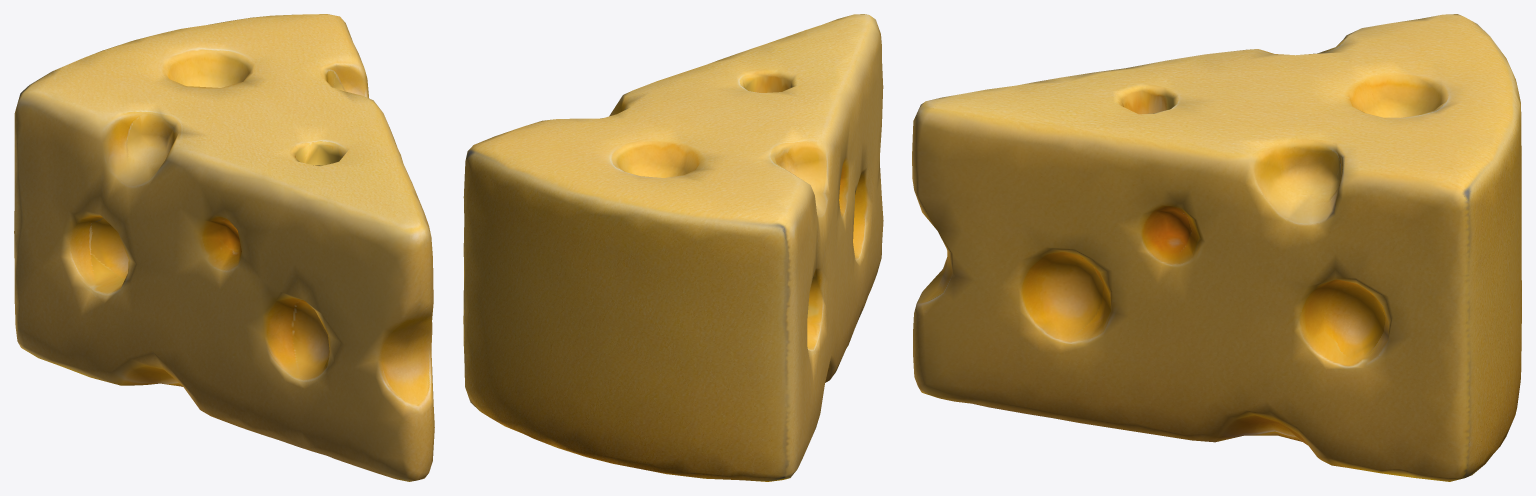
File: tom cheese.fbx
The picture shows the model from 3 angles, left to right: view 1: azimuth 30°, elevation 25°; view 2: azimuth 150°, elevation 25°; view 3: azimuth 270°, elevation 25°; orthographic projection. The views are drawn at different scales.
Parts seen in each view (by area): view 1: texture_mapping; view 2: texture_mapping; view 3: texture_mapping.
Boxes of the visible parts, x1,y1,x2,y2 form: texture_mapping: (14,14,434,481); texture_mapping: (463,14,883,481); texture_mapping: (912,14,1521,481).
Size of the model in its own units: 0.714 by 1 by 0.5659.
1 material, 1 textured.
